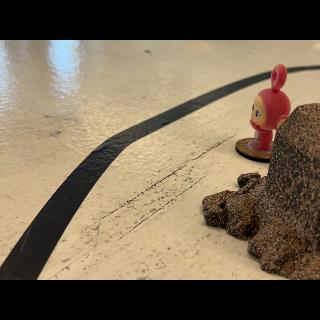teletubby: (250, 64, 291, 151)
